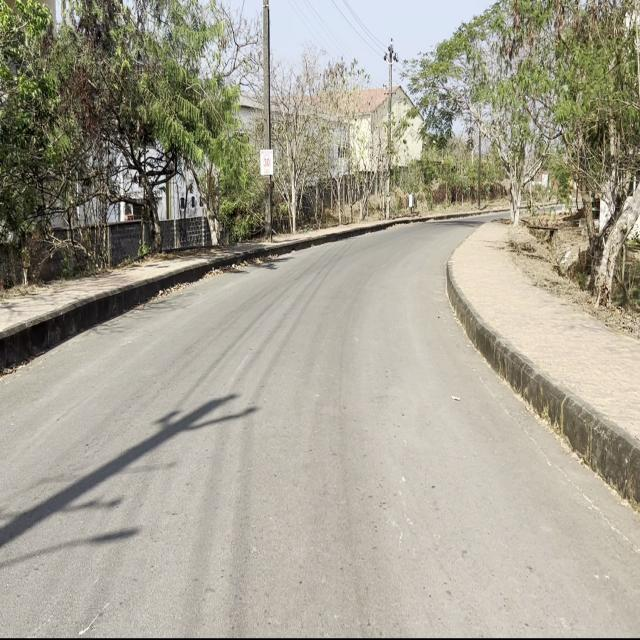Road: (3, 226, 639, 634)
